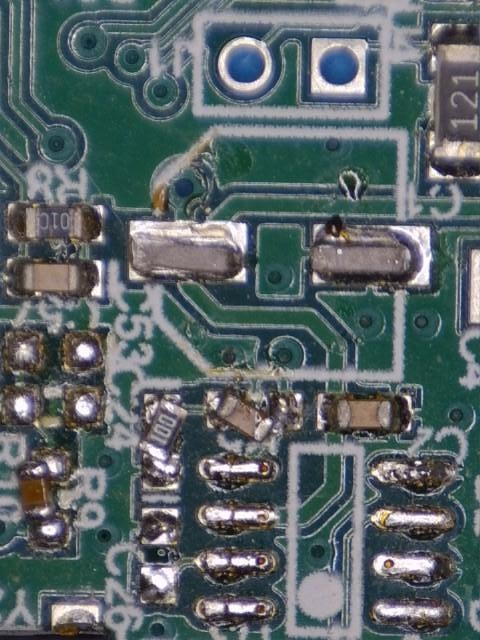pcb_defect: (14, 451, 76, 554), (205, 386, 304, 444), (136, 391, 190, 487)
